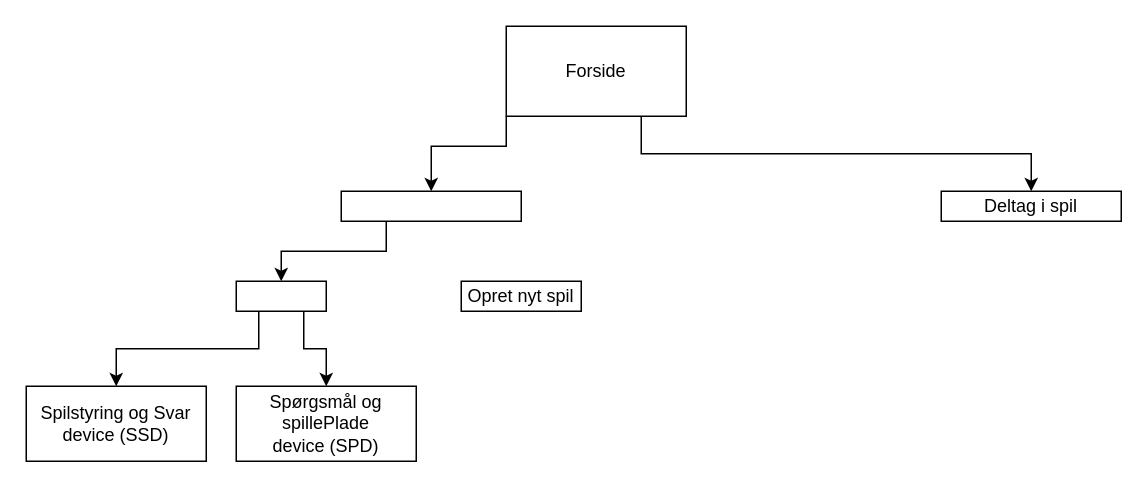
Image size: 1148x488. Some labels were removed from this diagram. Each missing label, with the centre of its shape:
"Log ind" goes at [430,205].
"Vælg spil" goes at [280,295].
